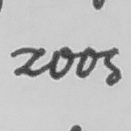o: (47, 45, 76, 80), (73, 45, 99, 81)
s: (100, 45, 123, 87)
z: (8, 45, 46, 80)
